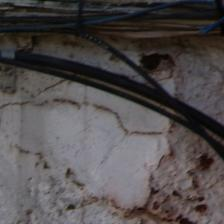Crack: (38, 56, 128, 127), (0, 85, 125, 130), (24, 0, 62, 93)
